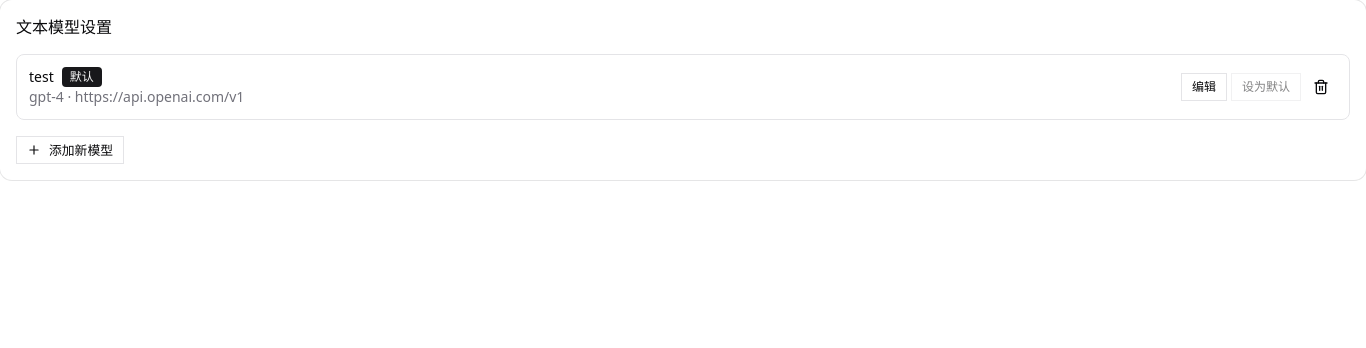
Test: ModelCard › shows edit form when clicking edit button
Click the button "编辑" at coordinates (1204, 87), box [1181, 73, 1227, 101]
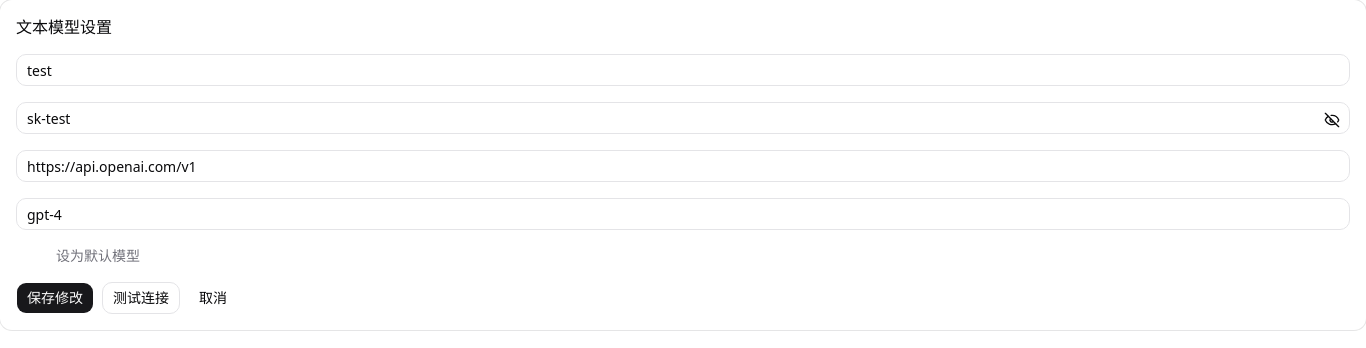
Result: the 1st field showing "test" is shown at [16, 54, 1350, 86]
Result: the 3rd field showing "https://api.openai.com/v1" is shown at [16, 150, 1350, 182]
Result: the 4th field showing "gpt-4" is shown at [16, 198, 1350, 230]
